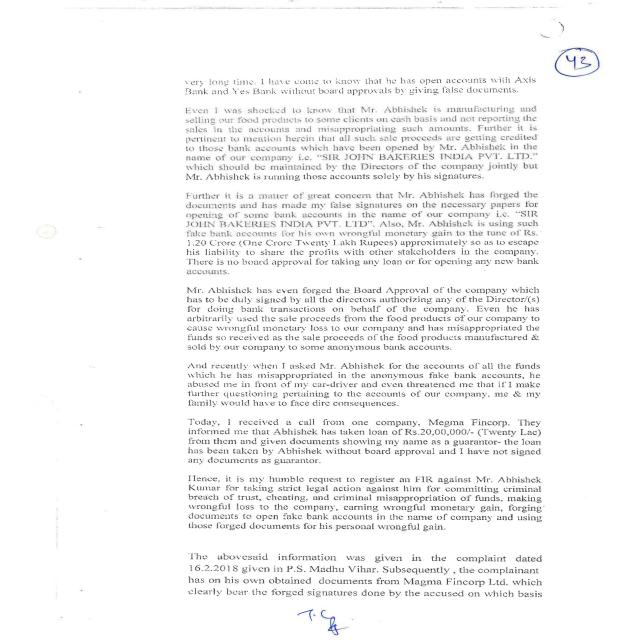page-number: (543, 40, 640, 98)
